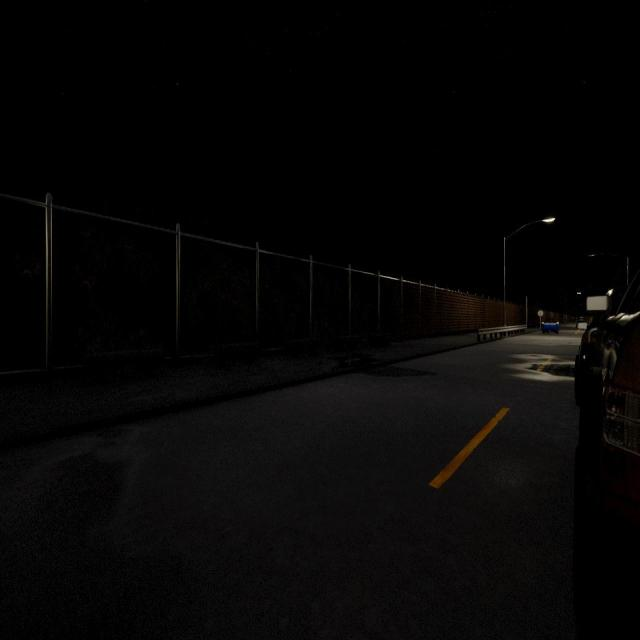Traffic_Signs: (538, 310, 544, 316)
Vehicle: (571, 262, 640, 482), (542, 318, 559, 334)
